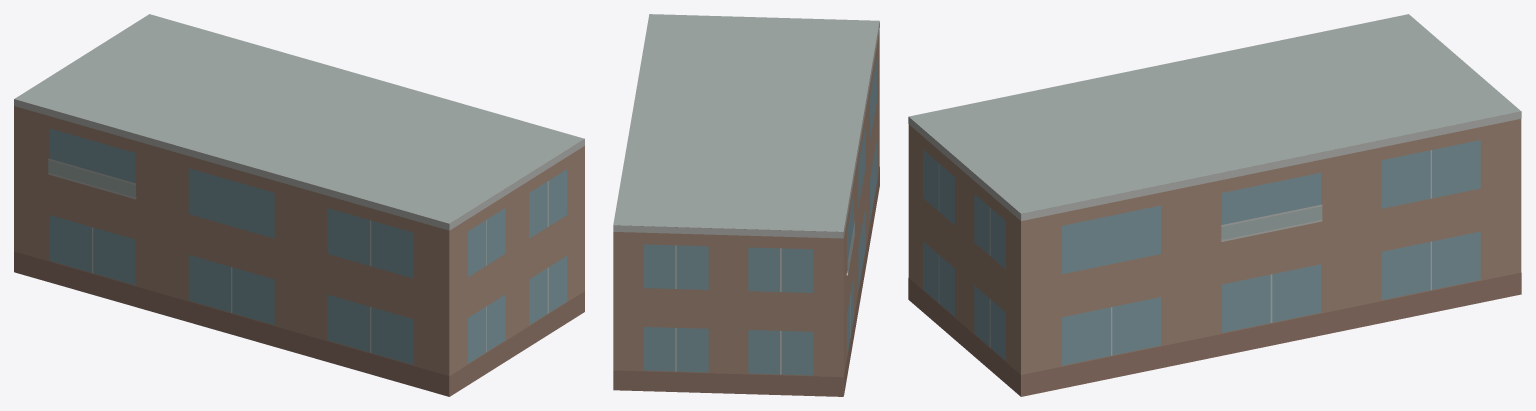
Rendered from survey-upis-32745163.glb.
3 renders of one model, left to right at view 1: azimuth 30°, elevation 25°; view 2: azimuth 150°, elevation 25°; view 3: azimuth 270°, elevation 25°, orthographic. The views are drawn at different scales.
Parts seen in each view (by area): view 1: survey-upis-32745163.tmp; view 2: survey-upis-32745163.tmp; view 3: survey-upis-32745163.tmp.
Part boxes in pixels (x1,y1,x2,y2): survey-upis-32745163.tmp: (14,14,584,396); survey-upis-32745163.tmp: (613,14,879,396); survey-upis-32745163.tmp: (908,14,1521,396).
Bounding box in the file's own units: 14.29 × 6.1 × 18.53.
